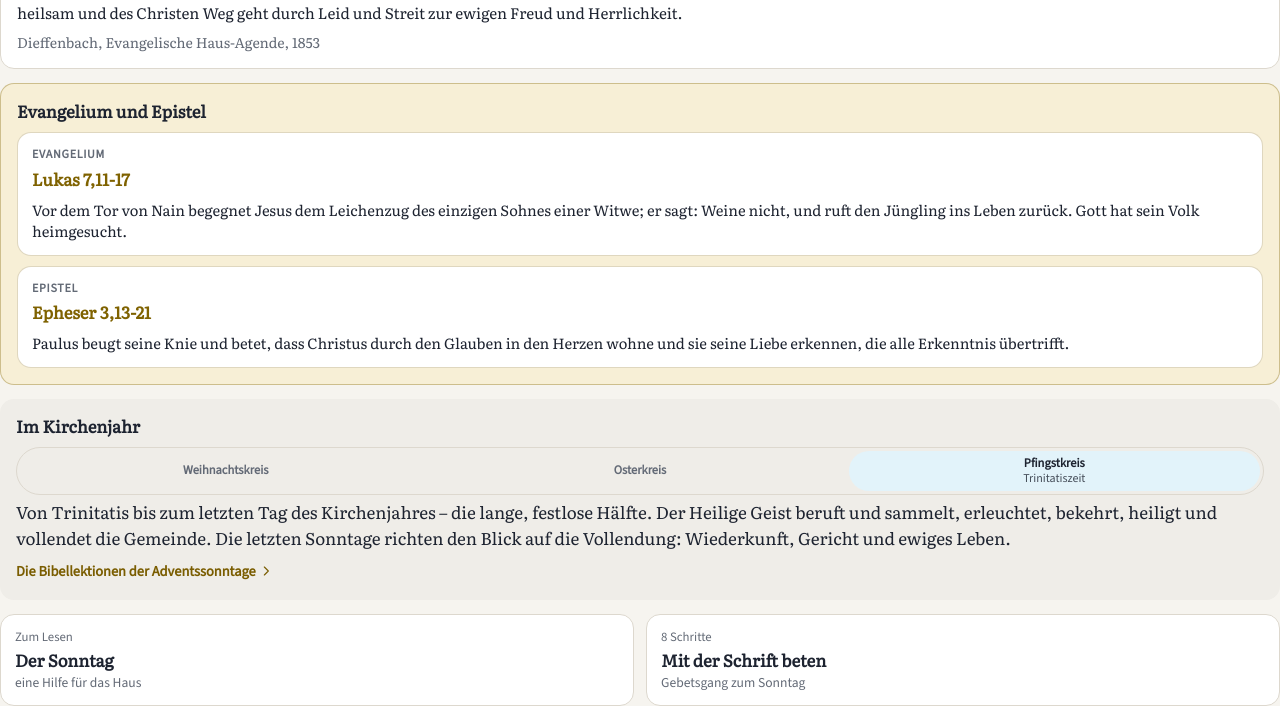
it: Sunday: the Bible lessons of Advent after Dieffenbach (1.5) › are reached outside Advent by a link on the Sunday page, to the first Sunday in Advent
The width and height of the screenshot is (1280, 706).
(page scrolled)
Click the link "Die Bibellektionen der Adventssonntage" at (145, 572), box [16,562,274,581]
(page scrolled)
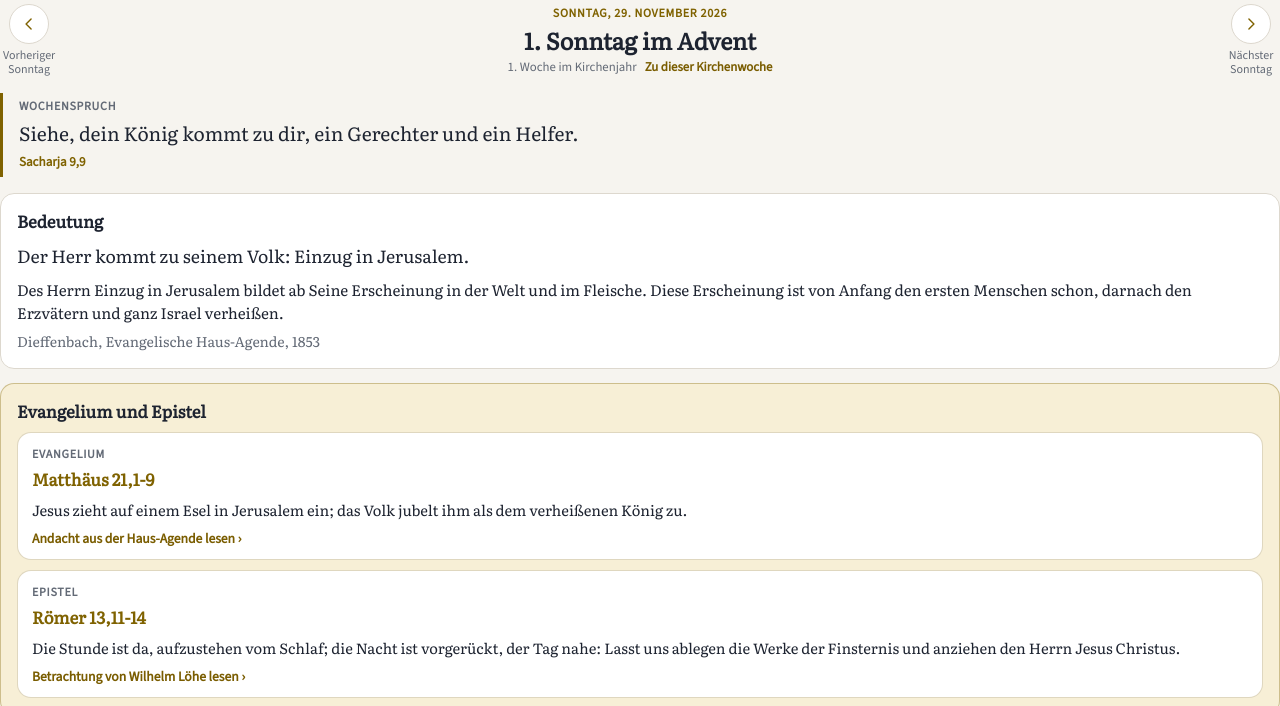
Expected: the button "1. Sonntag im Advent" is shown, [524,27,756,55]
Expected: the link "Die Bibellektionen der Adventssonntage" is gone
